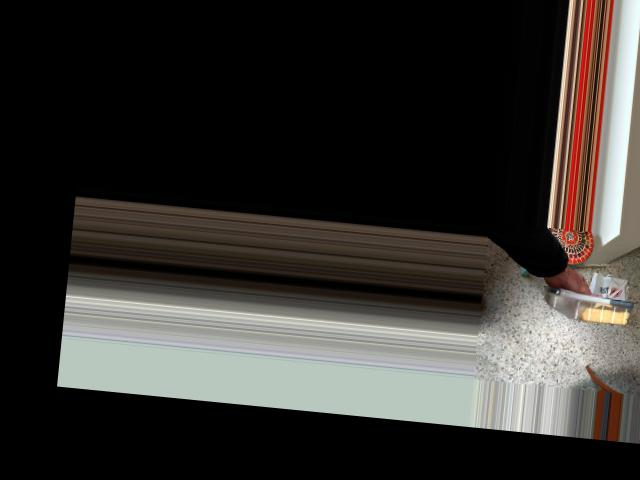cheese: (546, 269, 637, 337)
